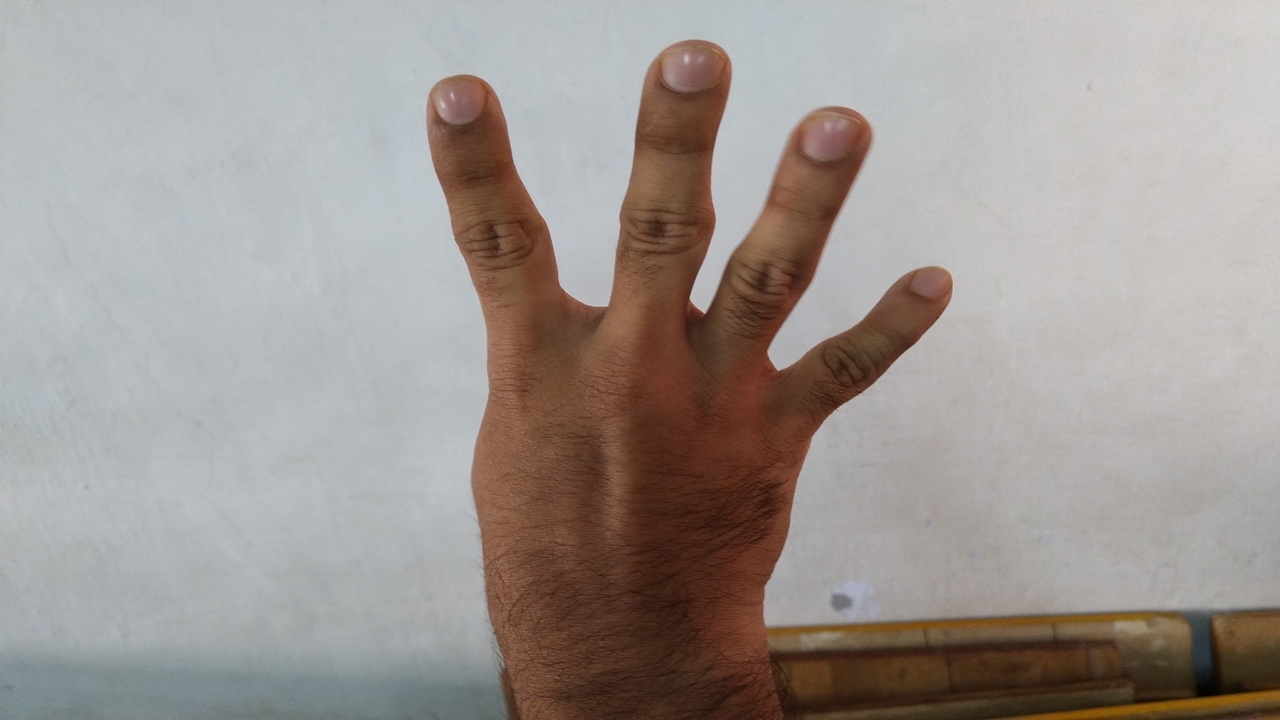fingertip: (780, 106, 884, 172), (648, 34, 734, 106), (420, 74, 506, 138), (890, 256, 964, 312)
